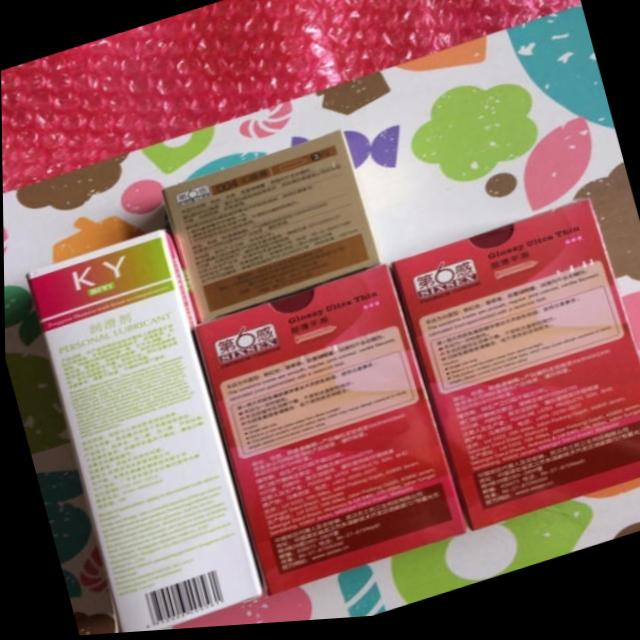box: (25, 229, 265, 635), (191, 269, 467, 602), (391, 203, 640, 538), (159, 131, 381, 324)
